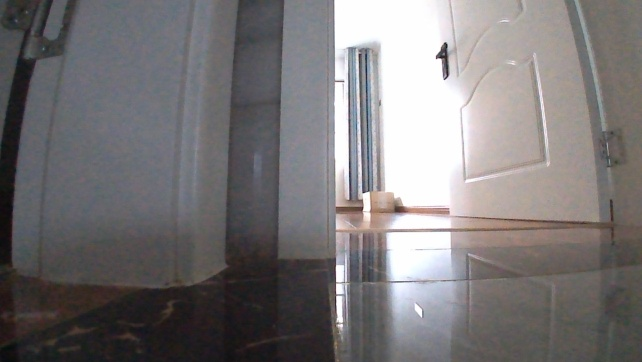door_anno: (429, 0, 641, 228)
